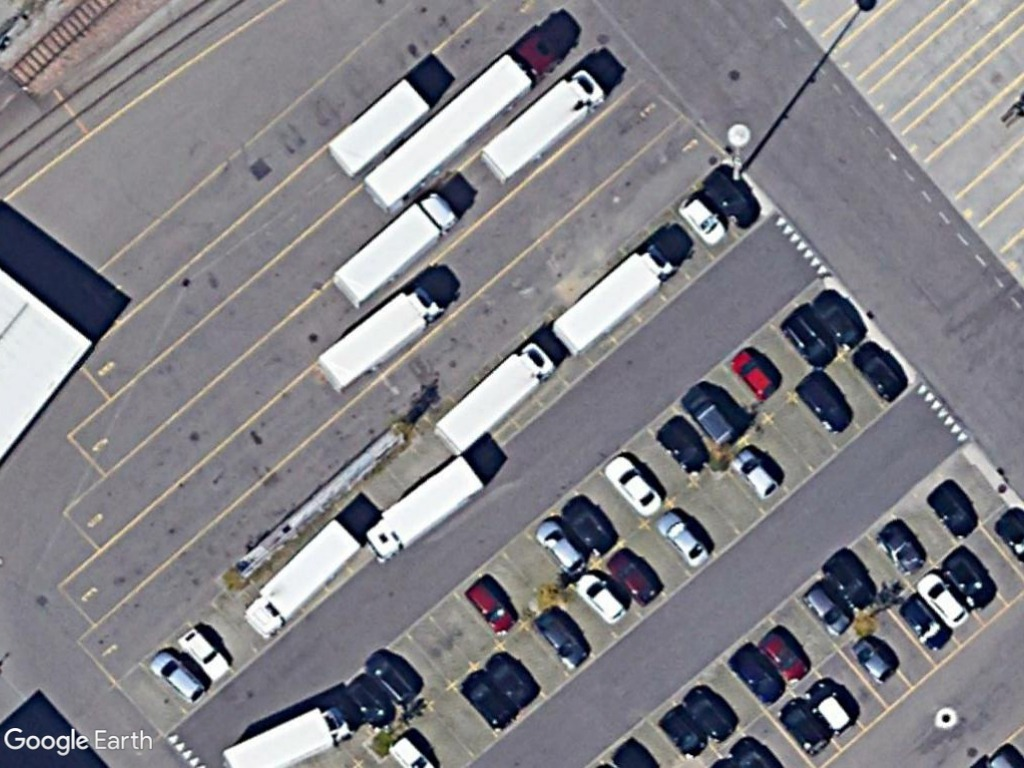car: (598, 449, 662, 520), (530, 609, 590, 673), (656, 506, 715, 569), (531, 517, 590, 579), (726, 344, 783, 407), (146, 648, 206, 705), (914, 571, 971, 631), (462, 579, 517, 639), (571, 569, 627, 627), (759, 628, 812, 688), (178, 626, 231, 683), (799, 584, 852, 637), (675, 193, 727, 247), (729, 446, 779, 501), (850, 632, 896, 689)
longvehicle: (360, 28, 564, 215)
truck: (238, 515, 364, 641), (330, 188, 457, 313), (547, 236, 676, 356), (431, 338, 559, 457), (477, 67, 606, 185), (314, 282, 442, 400), (361, 454, 487, 571)
